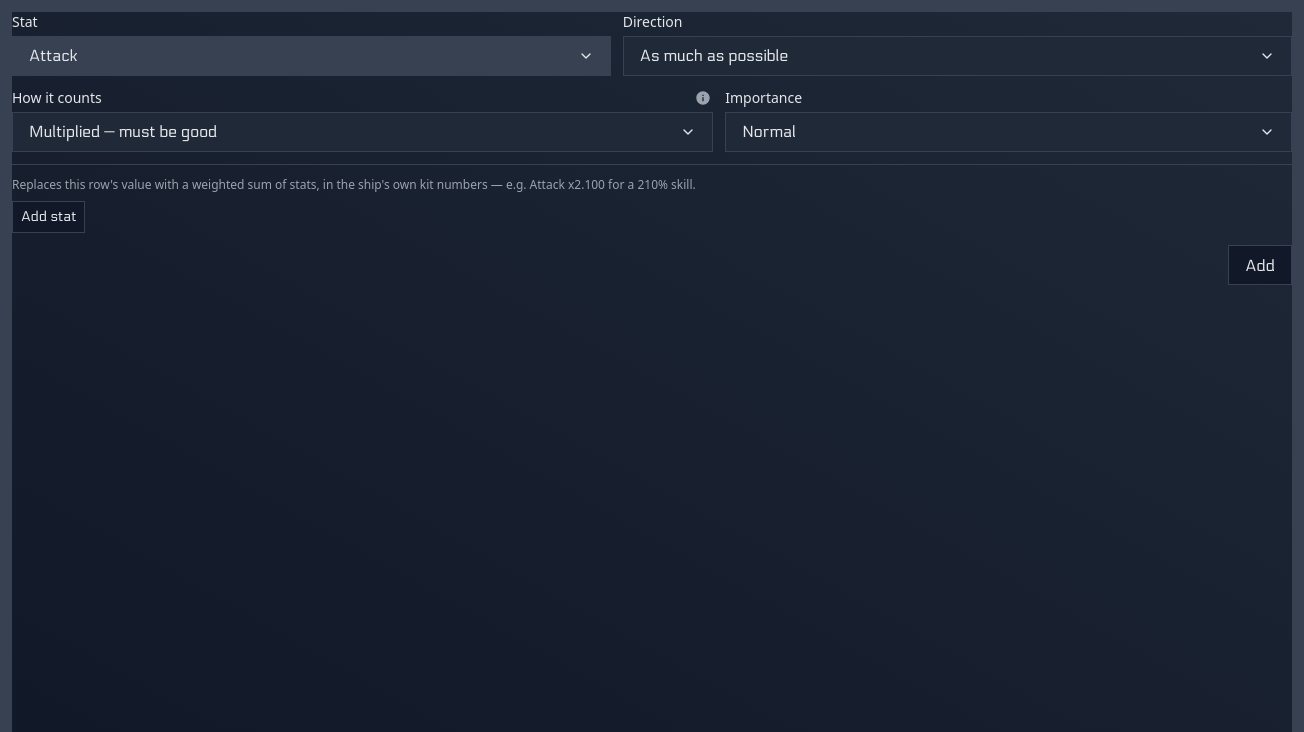
Test case: CustomFormulaForm › rejects a basis weight outside the shared schema magnitude window
The width and height of the screenshot is (1304, 732).
Click the button "Add stat".
click(49, 217)  # box [12,201,86,233]
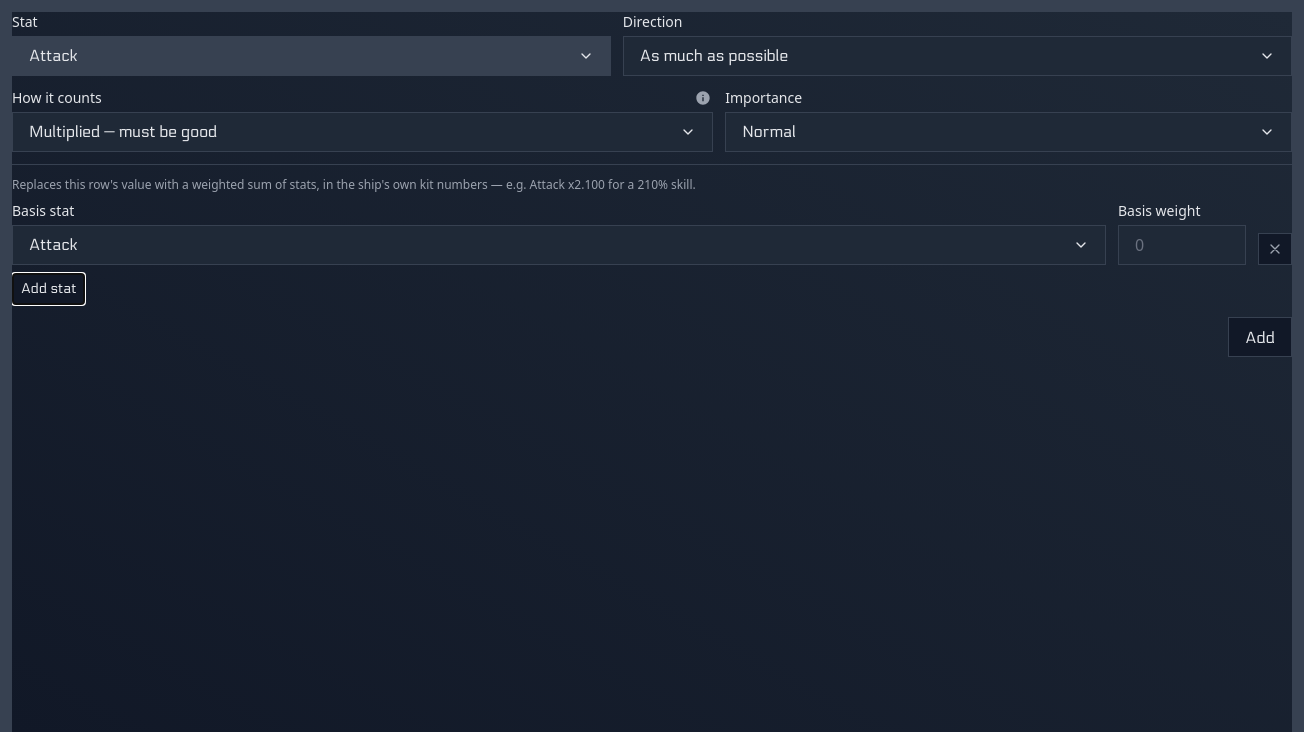
Type "1e13" into the number field labelled "Basis weight".
click(1182, 245); type("1e13")  # box [1118,225,1246,265]
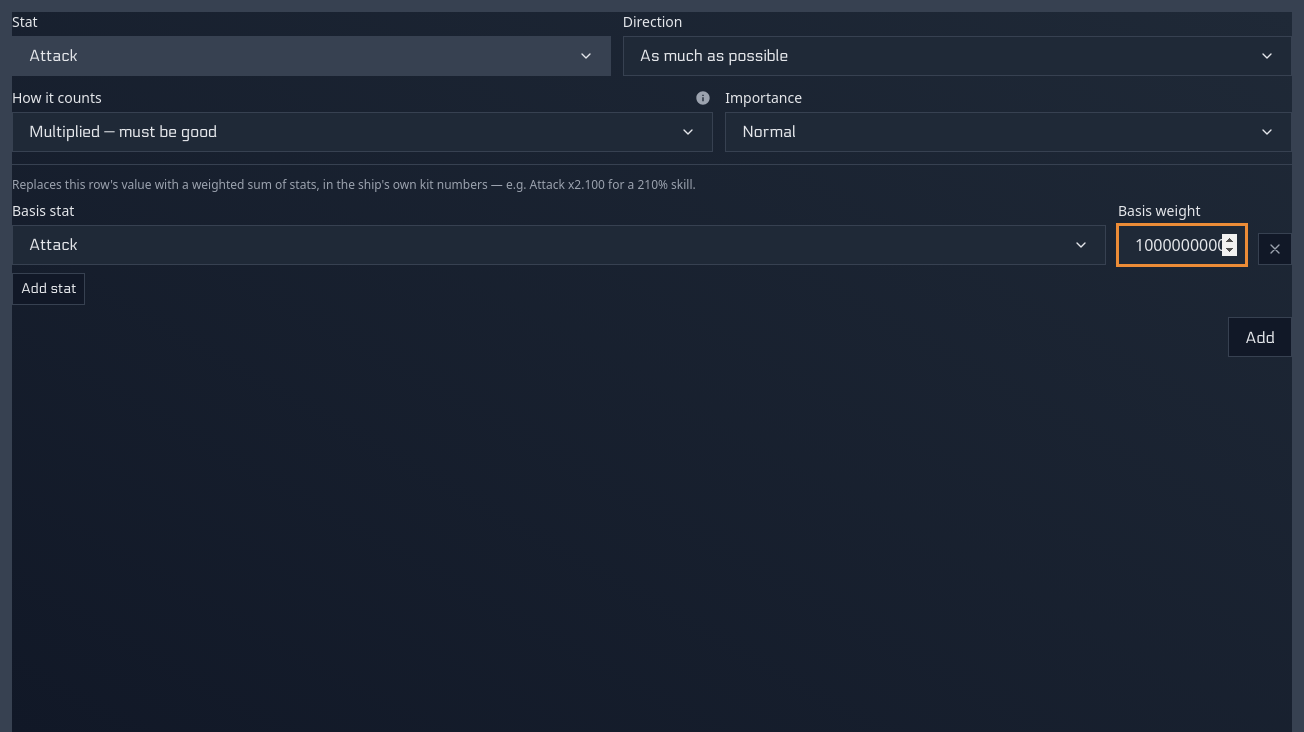
Click the button with aria-label "add formula stat".
click(1260, 337)  # box [1228,317,1292,357]
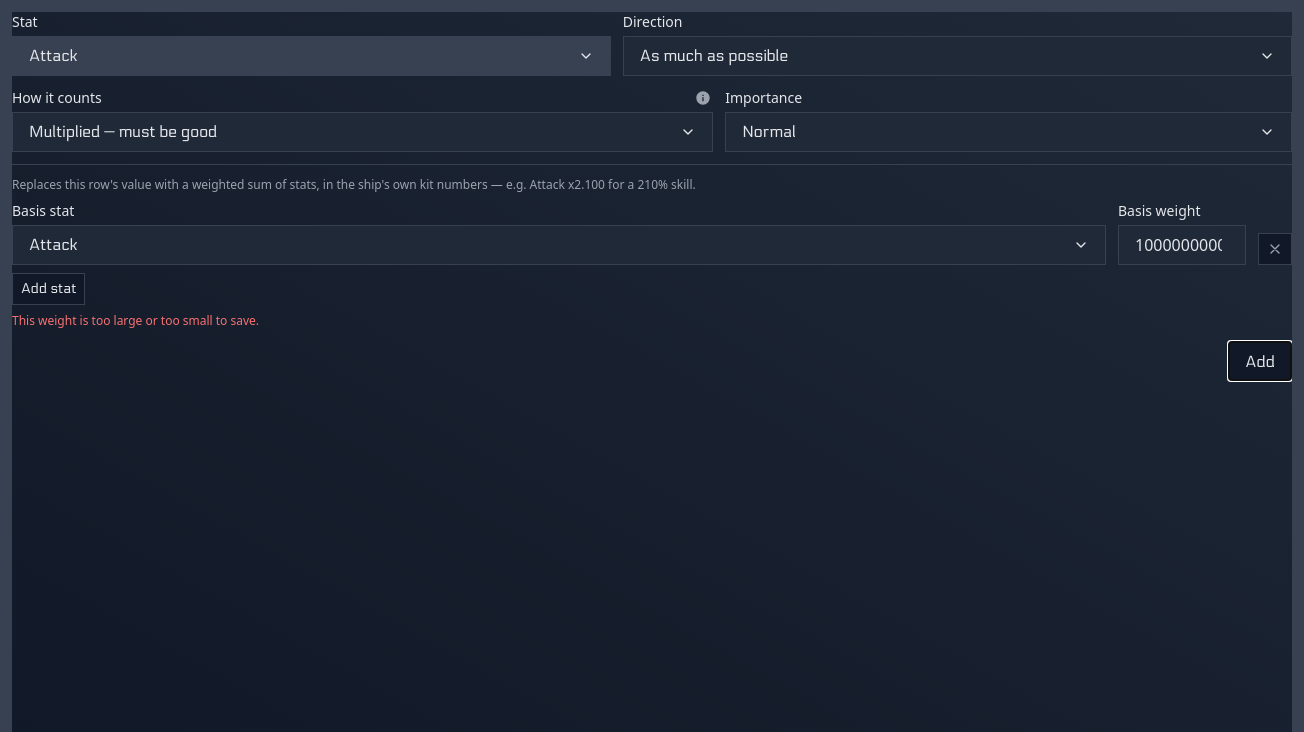
Expected: the message shows "too large or too small", [12,312,259,329]
